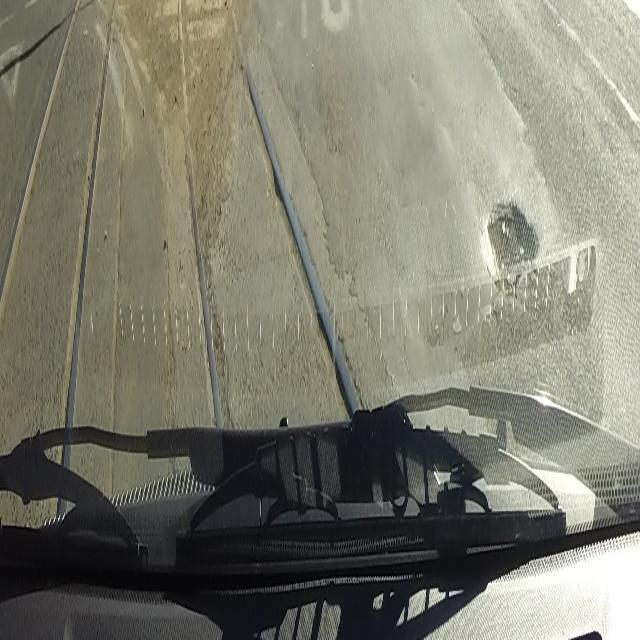pothole: (478, 196, 540, 310)
